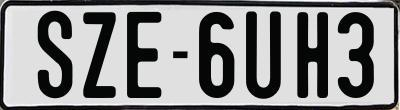3: (335, 11, 373, 101)
6: (197, 9, 233, 99)
E: (127, 11, 161, 101)
H: (297, 11, 330, 98)
S: (36, 10, 71, 97)
U: (246, 10, 282, 98)
Z: (83, 12, 116, 98)
